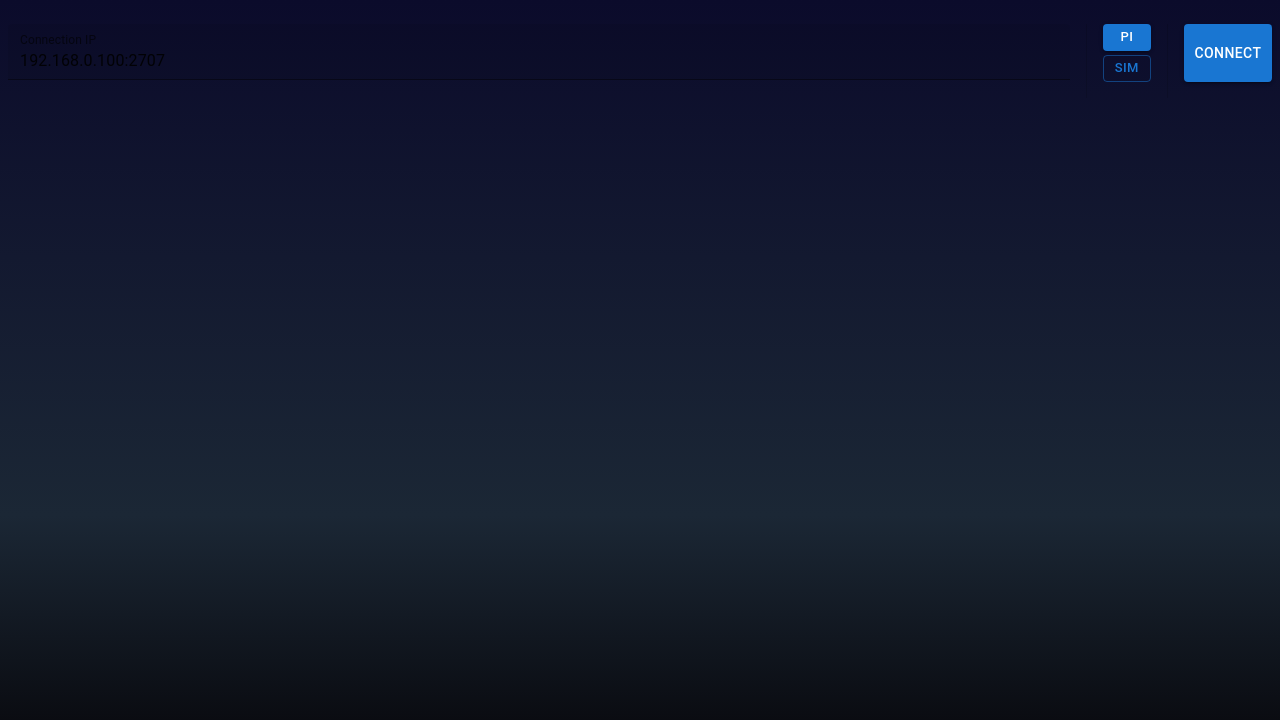
ConnectBar › Pi puts the Pi address back
The image size is (1280, 720).
Click the button "Sim": (1127, 68) [1103,55,1151,82]
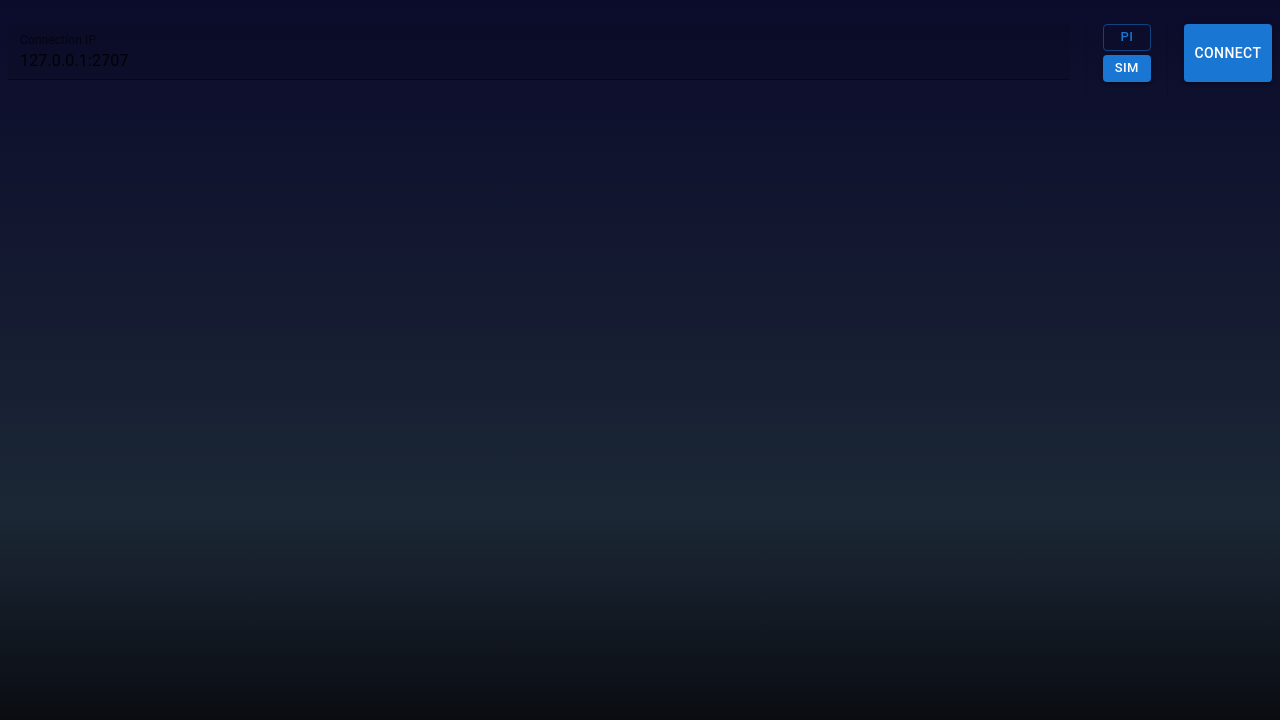
Click the button "Pi": (1127, 38) [1103,24,1151,51]
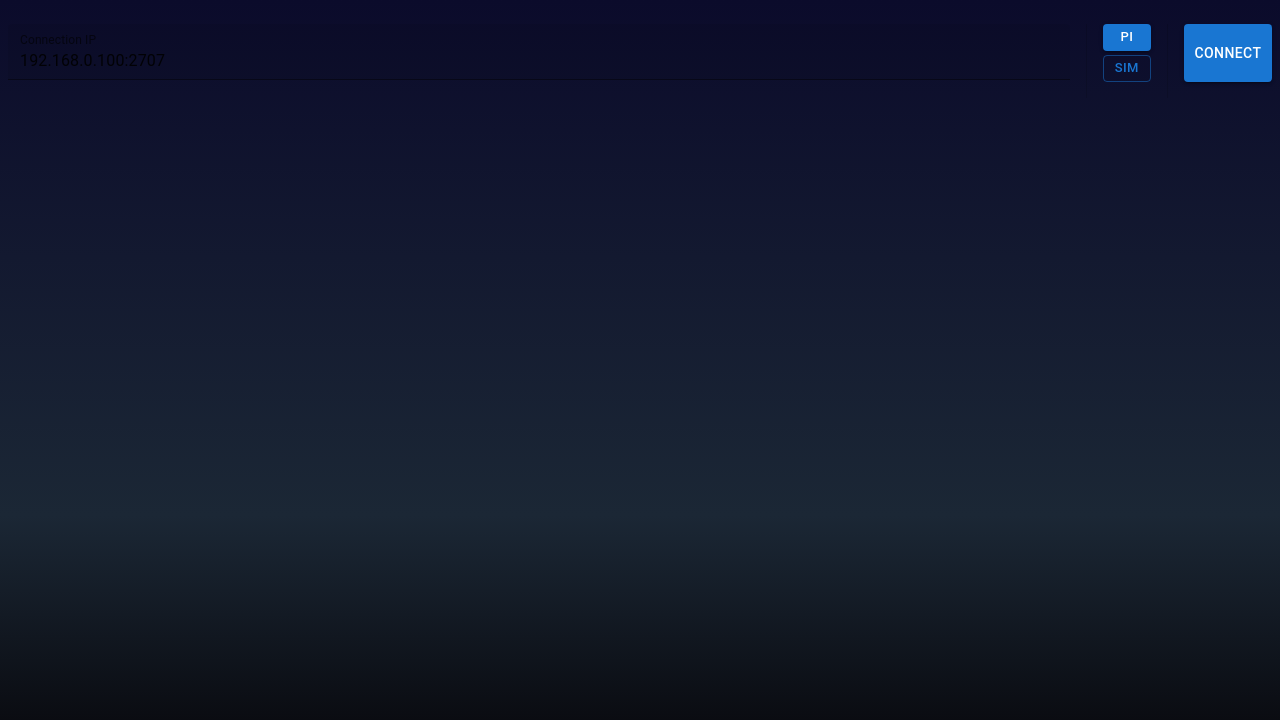
Expected: the field labelled "Connection IP" holds "192.168.0.100:2707", [8,24,1070,80]
